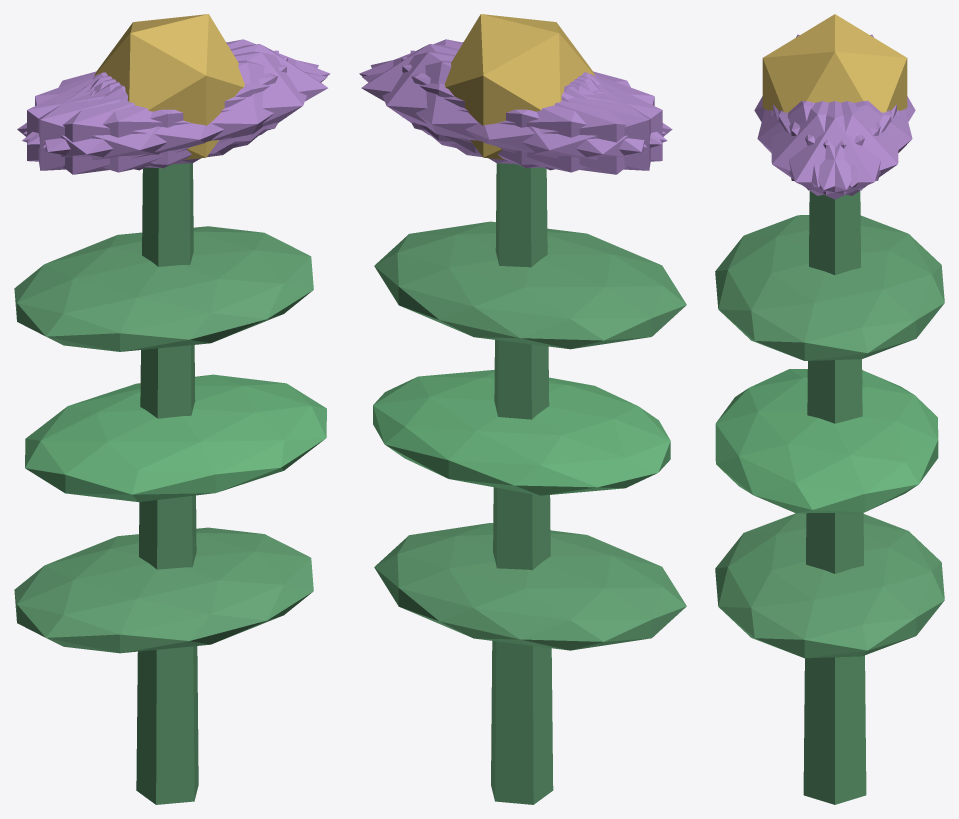
Rendered from ficus-fistulosa.glb.
The picture shows the model from 3 angles, left to right: view 1: azimuth 30°, elevation 25°; view 2: azimuth 150°, elevation 25°; view 3: azimuth 270°, elevation 25°; orthographic projection.
Visible parts, largest first — view 1: leaf1, leaf2, leaf0, stem, center, petal1, petal6, petal2, petal5, petal7, petal0, petal4 (+2 smaller); view 2: leaf2, leaf0, leaf1, stem, center, petal8, petal3, petal7, petal4, petal2, petal0, petal5 (+2 smaller); view 3: leaf2, leaf1, leaf0, stem, center, petal0, petal4, petal5, petal1, petal8.
Part boxes in pixels (bbox=[...]): leaf1: bbox=[25, 374, 326, 502]; leaf2: bbox=[14, 226, 313, 351]; leaf0: bbox=[14, 527, 313, 653]; stem: bbox=[136, 163, 198, 804]; center: bbox=[94, 14, 244, 159]; petal1: bbox=[22, 60, 327, 172]; petal6: bbox=[17, 74, 238, 174]; petal2: bbox=[38, 50, 278, 170]; petal5: bbox=[42, 51, 318, 164]; petal7: bbox=[27, 57, 287, 168]; petal0: bbox=[94, 44, 327, 153]; petal4: bbox=[23, 39, 330, 144]; leaf2: bbox=[374, 221, 686, 349]; leaf0: bbox=[374, 523, 686, 650]; leaf1: bbox=[373, 370, 670, 495]; stem: bbox=[491, 163, 553, 804]; center: bbox=[444, 14, 595, 160]; petal8: bbox=[362, 60, 667, 172]; petal3: bbox=[451, 74, 672, 174]; petal7: bbox=[410, 50, 650, 170]; petal4: bbox=[370, 51, 646, 164]; petal2: bbox=[401, 57, 662, 168]; petal0: bbox=[361, 44, 595, 153]; petal5: bbox=[359, 39, 665, 144]; leaf2: bbox=[715, 215, 944, 360]; leaf1: bbox=[715, 369, 938, 513]; leaf0: bbox=[715, 513, 944, 658]; stem: bbox=[803, 191, 866, 804]; center: bbox=[762, 14, 907, 112]; petal0: bbox=[773, 101, 896, 199]; petal4: bbox=[778, 101, 898, 195]; petal5: bbox=[771, 101, 891, 195]; petal1: bbox=[757, 100, 880, 187]; petal8: bbox=[789, 100, 912, 187].
Size of the model in its own units: 0.1452 by 0.3547 by 0.0974.
